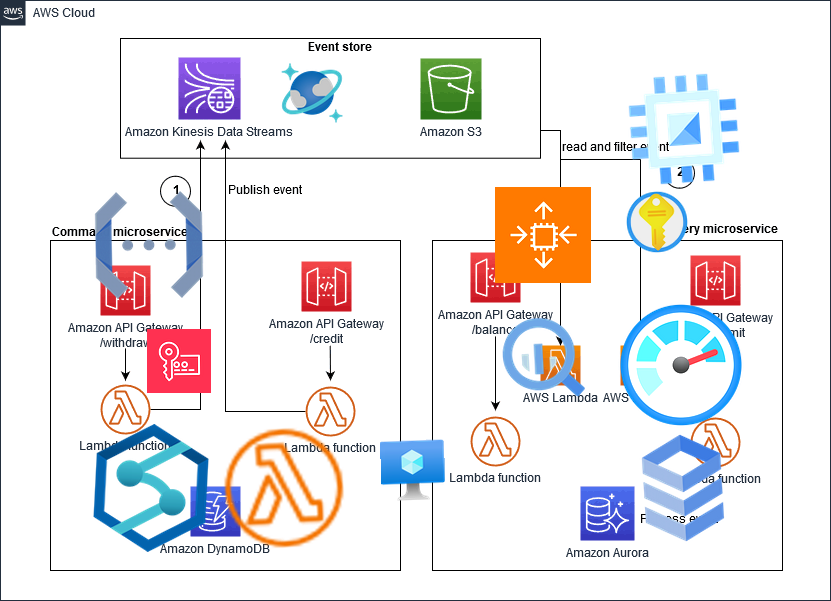aws_amazon_ec2_auto_scaling: (494, 186, 592, 284)
aws_key_management_service: (146, 328, 212, 394)
aws_lambda_lambda_function: (216, 420, 352, 556)
azure_cosmos_db: (279, 60, 345, 126)
azure_key_vaults: (623, 188, 691, 256)
azure_monitor: (616, 300, 746, 430)
azure_synapse_analytics: (83, 420, 219, 556)
azure_virtual_machine: (379, 438, 447, 506)
gcp_bigquery: (492, 307, 594, 409)
gcp_cloud_functions: (84, 180, 214, 310)
gcp_cloud_sql: (615, 420, 751, 556)
gcp_compute_engine: (615, 60, 753, 198)
